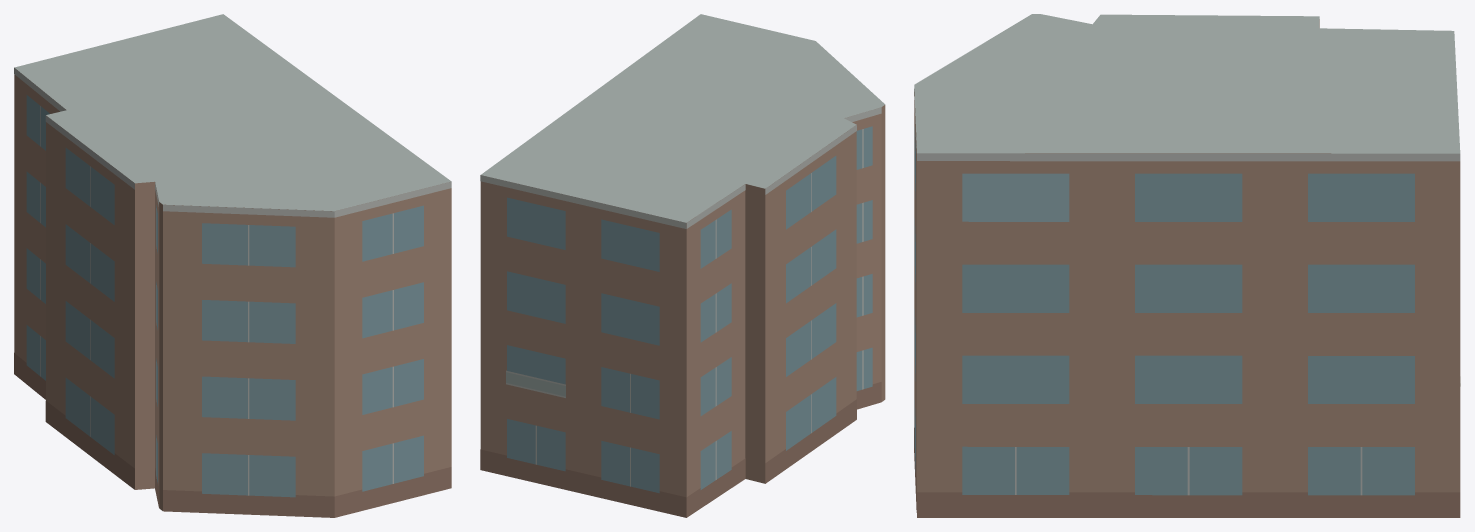
Rendered from survey-upis-32456979.glb.
3 views of the same model, side by side, from view 1: azimuth 30°, elevation 25°; view 2: azimuth 150°, elevation 25°; view 3: azimuth 270°, elevation 25° (orthographic). The views are drawn at different scales.
Visible parts, largest first — view 1: survey-upis-32456979.tmp; view 2: survey-upis-32456979.tmp; view 3: survey-upis-32456979.tmp.
Boxes of the visible parts, <box> form: survey-upis-32456979.tmp: <box>14,14,451,517</box>; survey-upis-32456979.tmp: <box>480,14,885,517</box>; survey-upis-32456979.tmp: <box>914,14,1460,517</box>.
Bounding box in the file's own units: 9.37 × 11.4 × 15.51.
